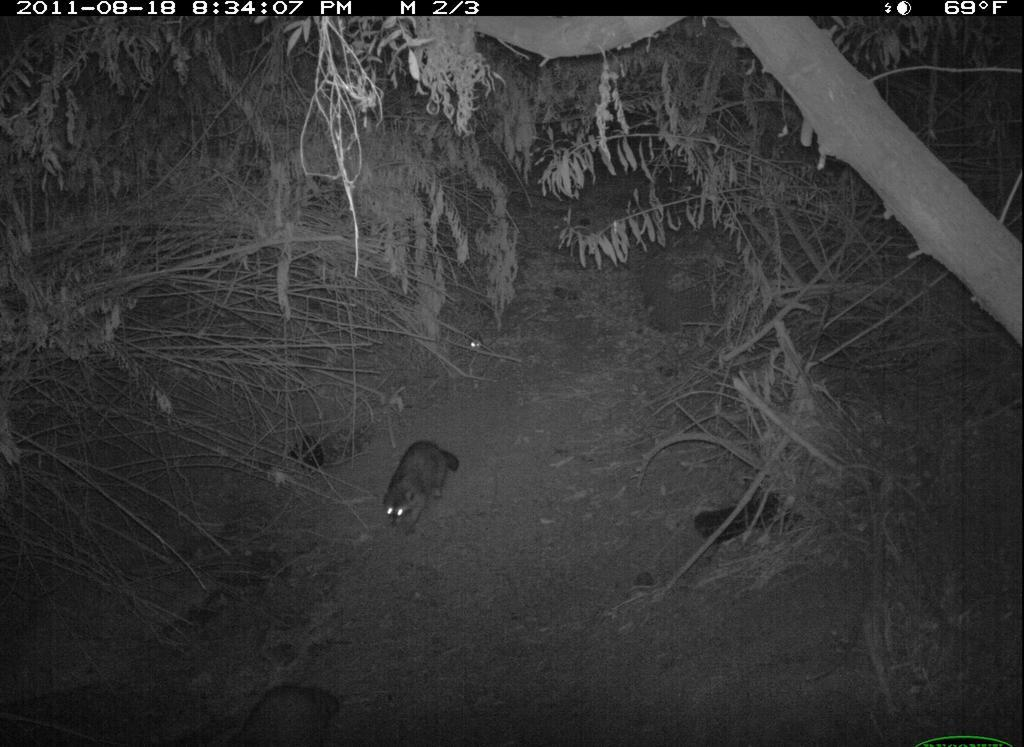raccoon: (209, 666, 360, 747), (370, 436, 463, 548)
